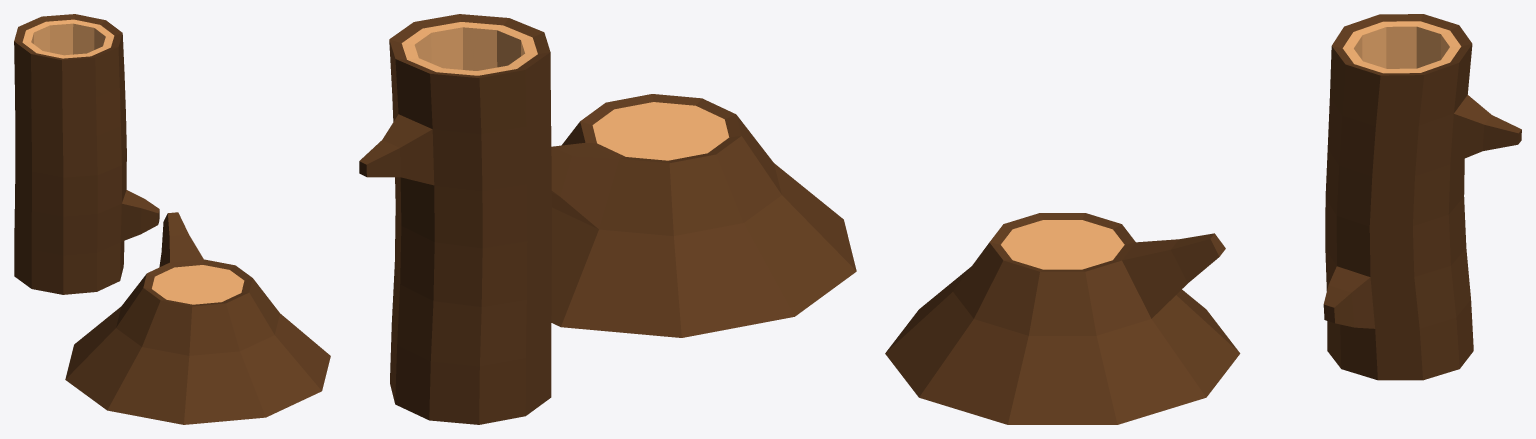
Rendered from fallenTreeLogs.fbx.
The picture shows the model from 3 angles, left to right: view 1: azimuth 30°, elevation 25°; view 2: azimuth 150°, elevation 25°; view 3: azimuth 270°, elevation 25°; orthographic projection. The views are drawn at different scales.
Parts seen in each view (by area): view 1: kokAgac, TreeLog; view 2: TreeLog, kokAgac; view 3: kokAgac, TreeLog.
Boxes of the visible parts, x1,y1,x2,y2 form: kokAgac: (65,212,330,424); TreeLog: (14,14,159,294); TreeLog: (359,14,551,424); kokAgac: (551,94,856,337); kokAgac: (885,213,1240,424); TreeLog: (1323,14,1521,380).
Bounding box in the file's own units: 190 × 193 × 358.
